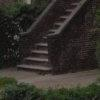stairs: (34, 1, 90, 41), (18, 41, 56, 74)
